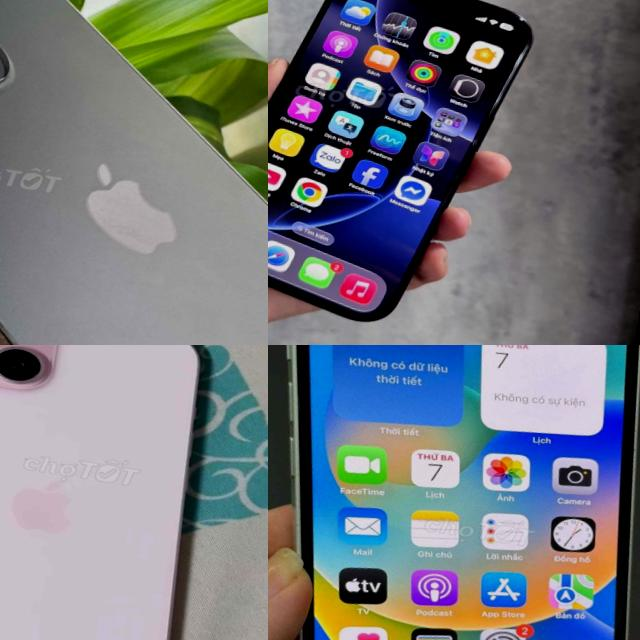gen_12_13: (268, 345, 640, 640)
gen_14: (0, 0, 268, 345)
gen_15: (0, 345, 229, 640)
gen_16: (268, 0, 546, 345)
